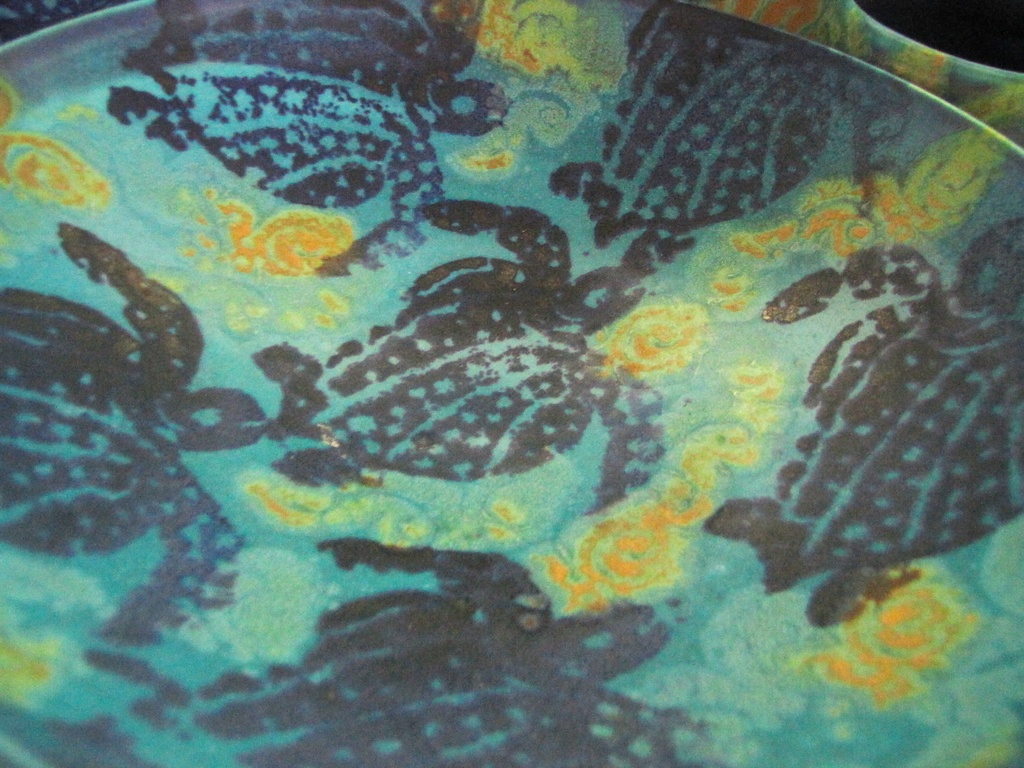Sea turtles: (251, 200, 677, 517), (704, 218, 1023, 631), (192, 531, 678, 767), (0, 218, 270, 642), (104, 0, 508, 282), (545, 0, 900, 276)
